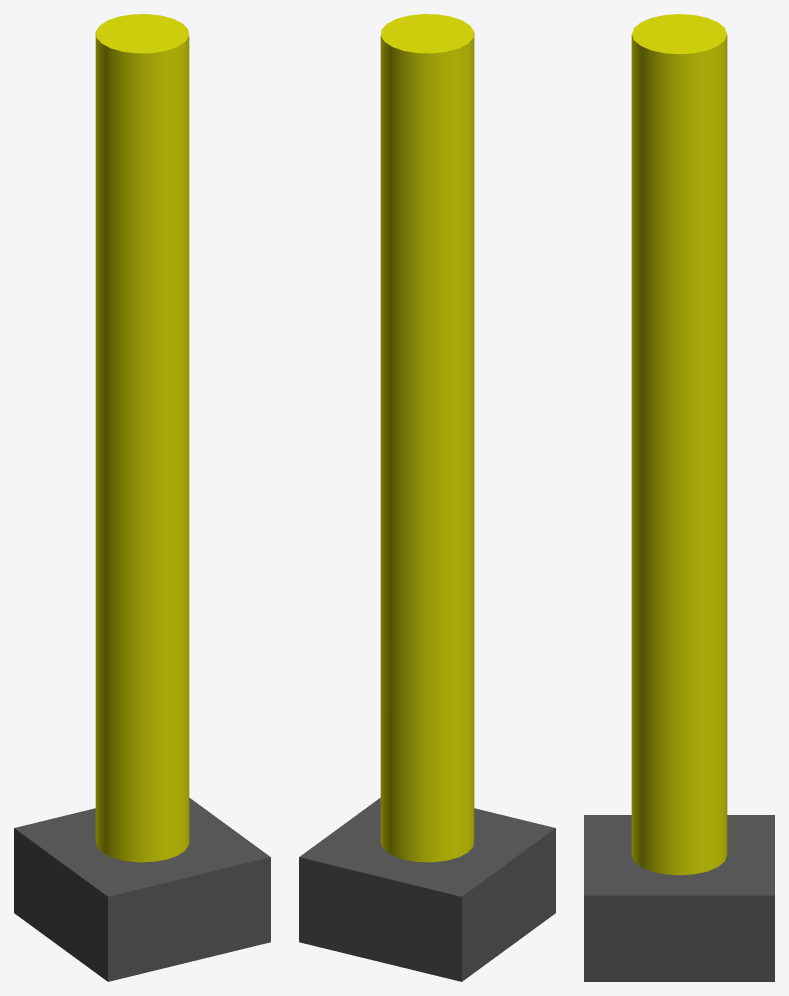
The model's file is Block_Start.fbx.
The picture shows the model from 3 angles, left to right: view 1: azimuth 30°, elevation 25°; view 2: azimuth 150°, elevation 25°; view 3: azimuth 270°, elevation 25°; orthographic projection.
Parts seen in each view (by area): view 1: pCube5; view 2: pCube5; view 3: pCube5.
Part boxes in pixels (<box>): pCube5: <box>14,14,270,981</box>; pCube5: <box>299,14,555,981</box>; pCube5: <box>584,14,774,981</box>.
Bounding box in the file's own units: 0.2 × 1.05 × 0.2.
